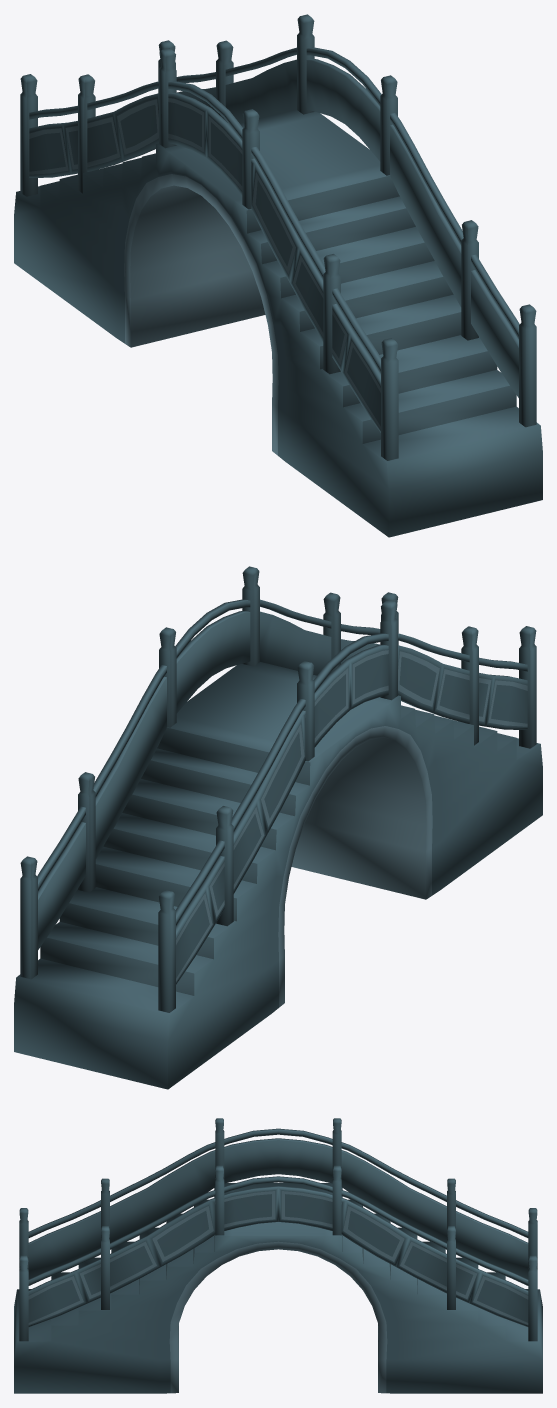
3 views of the same model, one above another, from view 1: azimuth 30°, elevation 25°; view 2: azimuth 150°, elevation 25°; view 3: azimuth 270°, elevation 25° (orthographic). The views are drawn at different scales.
Visible parts, largest first — view 1: base.023; view 2: base.023; view 3: base.023.
Boxes of the visible parts, x1,y1,x2,y2 form: base.023: (14,14,542,537); base.023: (14,566,542,1089); base.023: (14,1118,542,1393).
Size of the model in its own units: 0.1186 by 0.2335 by 0.5.
